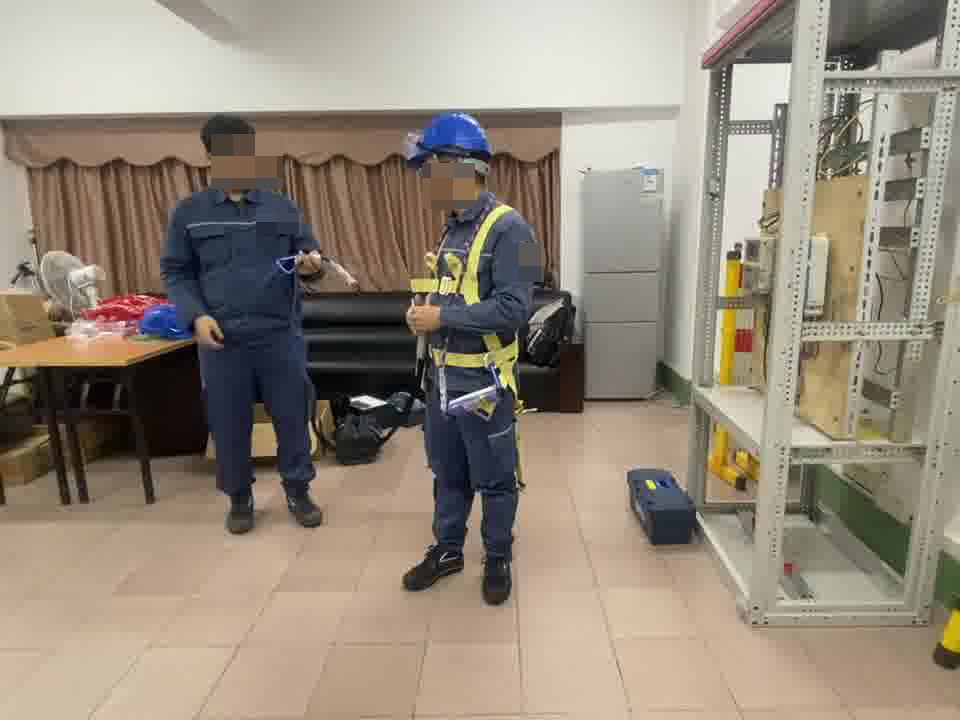downsuit: (201, 341, 320, 489), (423, 386, 518, 554)
halt: (407, 110, 496, 204)
hand: (404, 299, 443, 335), (192, 314, 224, 351), (294, 247, 326, 280)
inear: (433, 153, 461, 196)
noear: (206, 149, 232, 179)
person: (159, 114, 336, 537), (403, 107, 544, 603)
safebelt: (409, 206, 531, 494)
sleeve: (509, 240, 536, 278)
unhalt: (201, 114, 266, 187)
upsuit: (162, 186, 318, 335), (419, 191, 539, 382)
